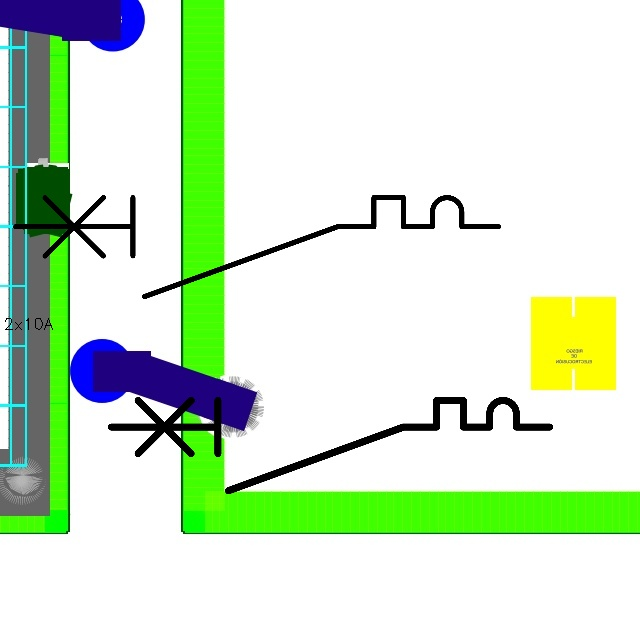interruptor_termomagnetico: (3, 185, 511, 309), (100, 389, 561, 502)
